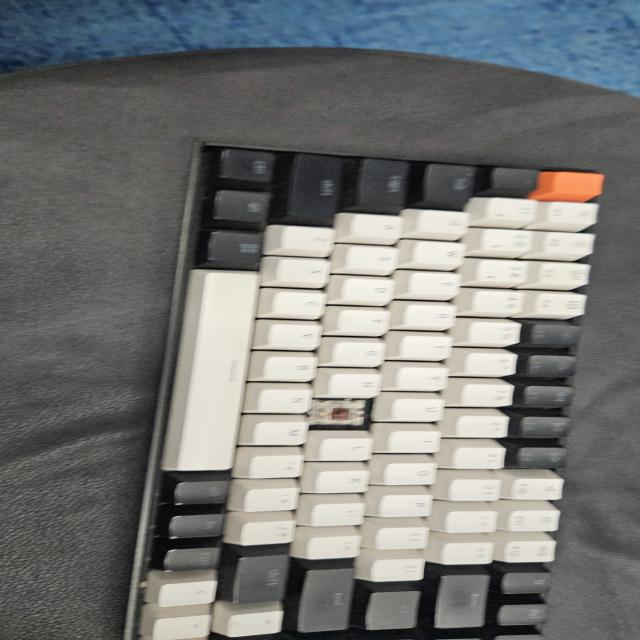C: (317, 402, 364, 426)
